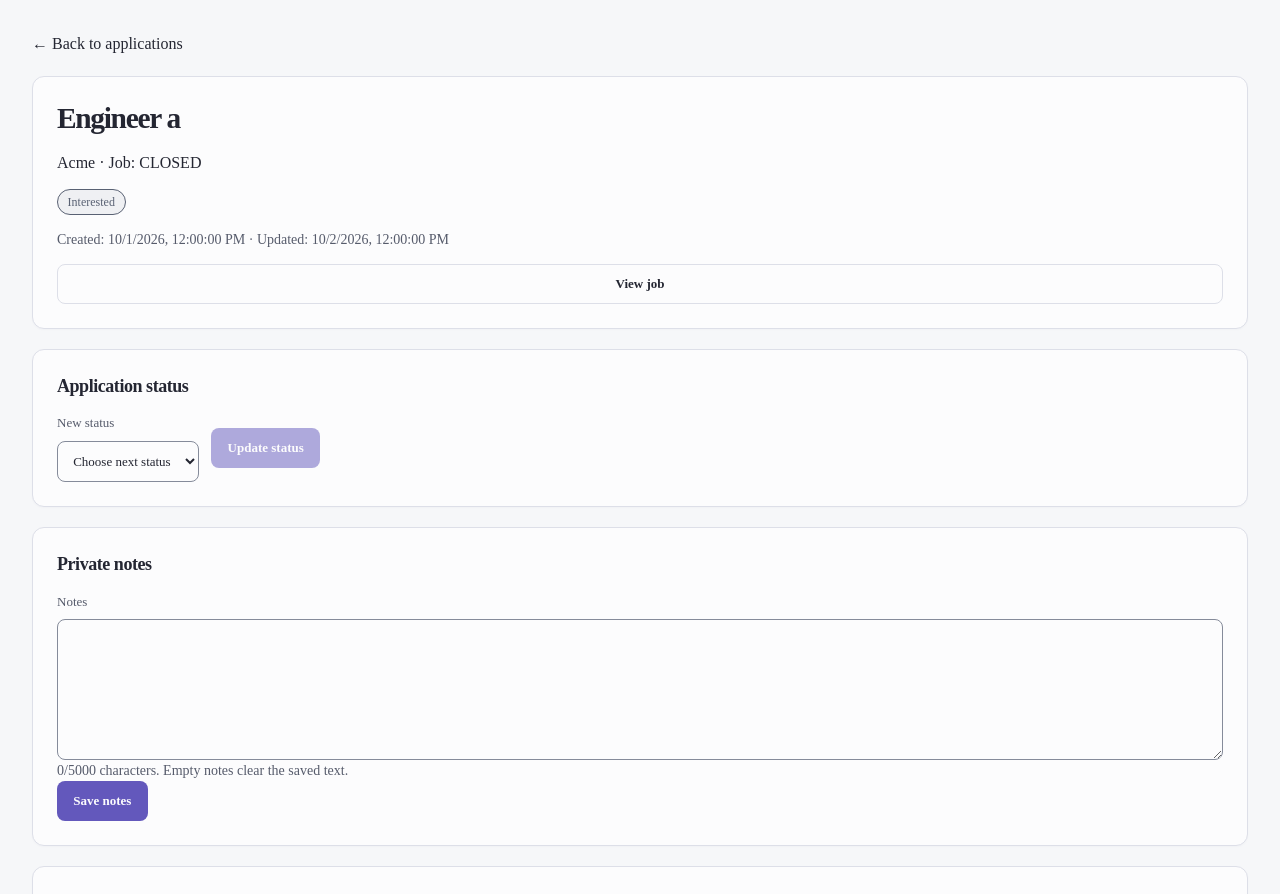
Application management › preserves unsaved notes on failure
expect the heading "Engineer a" is shown: met, box x1=57 y1=102 x2=180 y2=134
Type "Keep draft" into the text box labelled "Notes".
click(640, 690); type("Keep draft")  # box x1=57 y1=619 x2=1223 y2=760
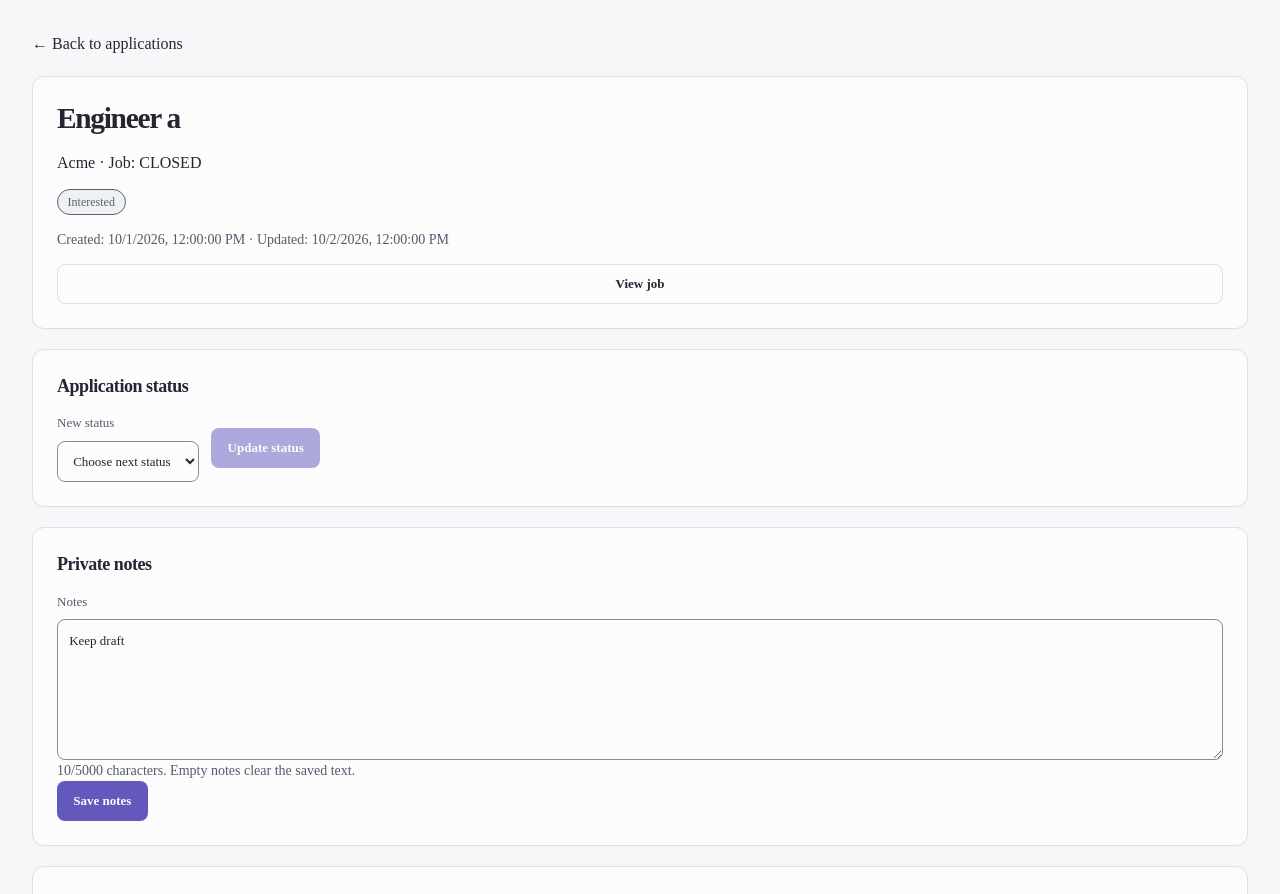
Click the button "Save notes".
click(102, 801)  # box x1=57 y1=781 x2=148 y2=821
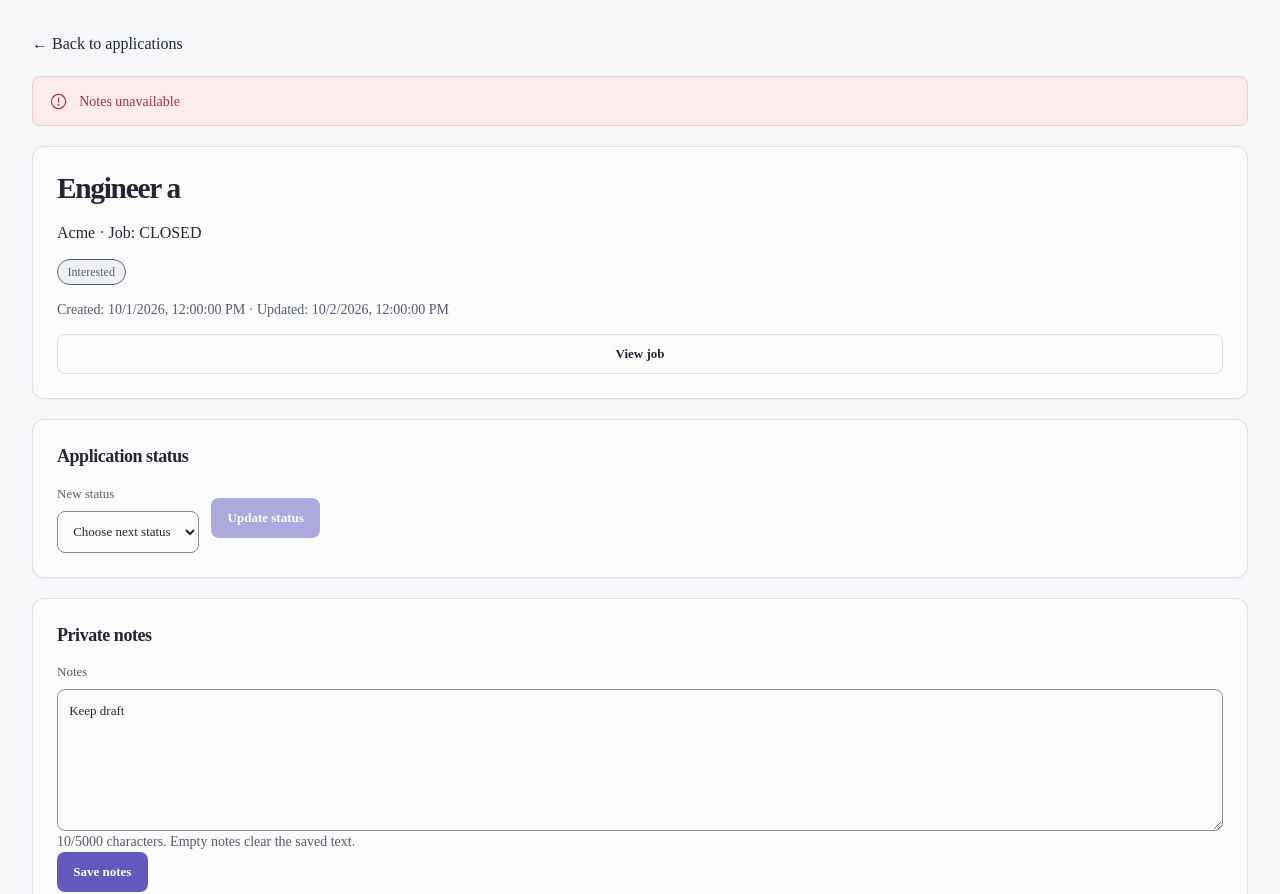
expect the message reads "Notes unavailable": met, box x1=79 y1=94 x2=180 y2=109
